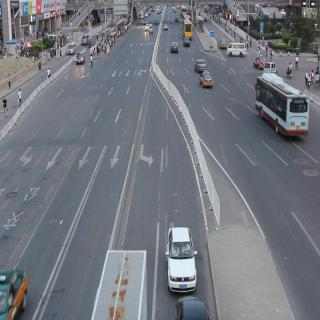BigCar: (256, 73, 309, 142), (183, 20, 194, 40)
Car: (166, 227, 197, 294), (0, 272, 28, 320), (177, 294, 210, 320), (228, 41, 246, 61), (200, 68, 213, 91), (251, 57, 265, 71), (194, 57, 206, 73), (265, 64, 278, 76), (67, 42, 76, 58), (76, 52, 86, 66), (170, 42, 180, 52), (81, 34, 89, 46), (219, 39, 227, 49), (184, 38, 190, 49), (149, 23, 154, 35), (163, 21, 168, 31), (175, 12, 180, 22), (144, 23, 149, 32), (154, 19, 158, 25)
